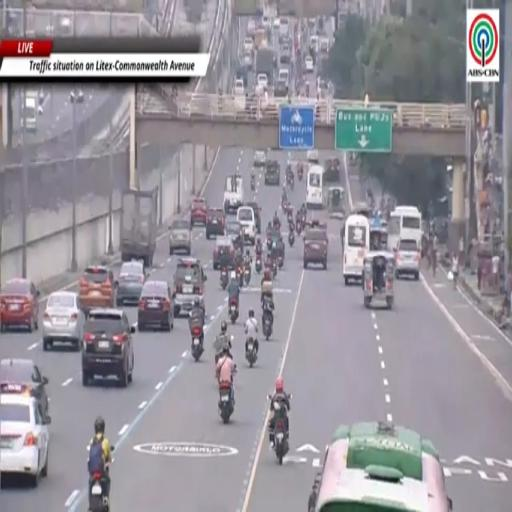bus: (343, 215, 369, 285), (387, 206, 422, 251), (306, 165, 324, 209)
car: (0, 394, 50, 487), (82, 308, 135, 387), (0, 359, 49, 415), (42, 291, 85, 350), (0, 279, 40, 331), (173, 258, 206, 317), (79, 265, 115, 314), (138, 281, 173, 331), (115, 260, 148, 307), (303, 228, 328, 269), (395, 239, 420, 280), (224, 174, 244, 214), (169, 219, 191, 254), (237, 206, 256, 245), (213, 236, 235, 269), (206, 208, 224, 239), (245, 201, 261, 233), (226, 220, 243, 250), (191, 198, 206, 227), (324, 157, 341, 182), (265, 160, 279, 185), (274, 80, 288, 98), (69, 88, 84, 104), (254, 151, 266, 167), (279, 49, 291, 65), (257, 73, 268, 89), (234, 79, 244, 95), (304, 56, 314, 72), (307, 150, 318, 164), (243, 37, 253, 52), (243, 53, 253, 68), (247, 19, 255, 36), (273, 18, 280, 28)
jeepney: (309, 423, 452, 511), (362, 251, 394, 309), (328, 186, 345, 219)
motorcycle: (273, 402, 288, 465), (88, 473, 109, 511), (219, 382, 234, 423), (191, 326, 203, 361), (246, 338, 257, 367), (262, 311, 272, 340), (230, 298, 238, 324), (220, 268, 228, 290), (236, 266, 243, 287), (255, 255, 262, 274), (244, 265, 250, 285), (215, 348, 221, 366), (288, 231, 294, 247), (286, 170, 292, 186), (272, 261, 277, 279), (277, 255, 283, 269), (297, 167, 303, 181), (296, 222, 302, 235), (289, 175, 294, 190), (301, 214, 306, 229), (251, 174, 255, 190), (267, 235, 271, 250)
truck: (120, 188, 157, 268), (255, 48, 276, 86)
